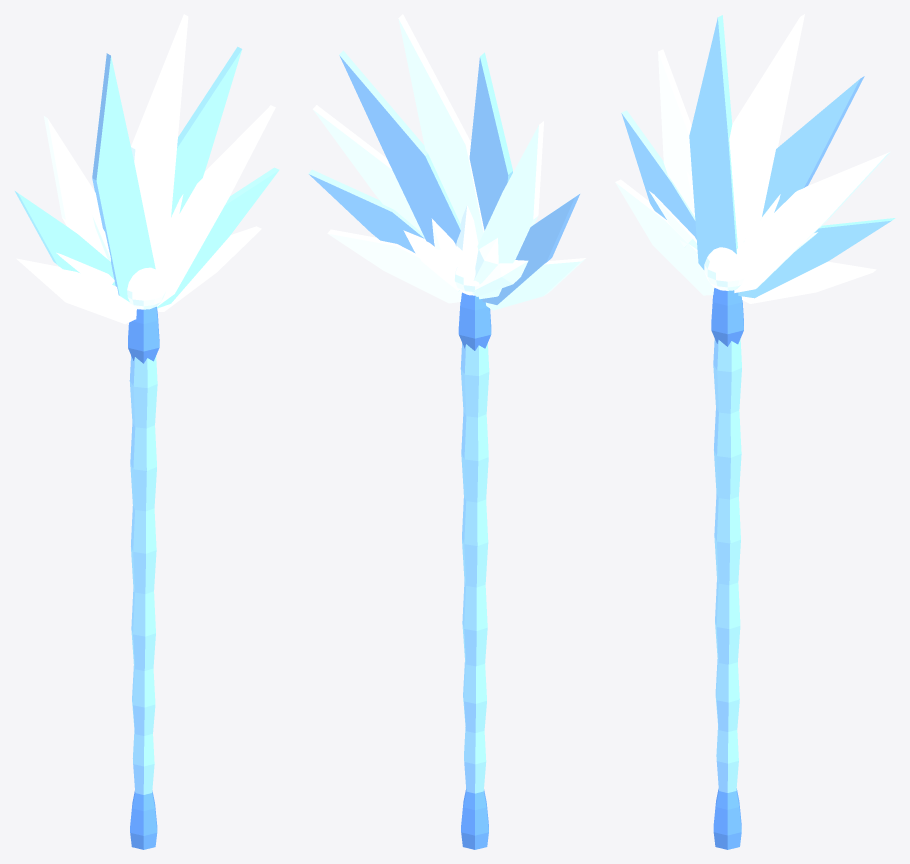
The model's file is staff_icebloom.glb.
The picture shows the model from 3 angles, left to right: view 1: azimuth 30°, elevation 25°; view 2: azimuth 150°, elevation 25°; view 3: azimuth 330°, elevation 25°; orthographic projection. The views are drawn at different scales.
Parts seen in each view (by area): view 1: Ib_Shaft, Ib_Blade3, Ib_Blade4, Ib_Blade6, Ib_Blade5, Ib_Blade2, Ib_Blade0, Ib_Blade1, Ib_Blade7, Ib_Neck, Ib_Blade8, Ib_Butt (+2 smaller); view 2: Ib_Shaft, Ib_Blade5, Ib_Blade4, Ib_Blade2, Ib_Blade3, Ib_Blade8, Ib_Blade6, Ib_Blade7, Ib_Blade1, Ib_Blade0, Ib_Neck, Ib_Butt (+6 smaller); view 3: Ib_Shaft, Ib_Blade3, Ib_Blade4, Ib_Blade6, Ib_Blade5, Ib_Blade7, Ib_Blade2, Ib_Blade0, Ib_Blade1, Ib_Blade8, Ib_Neck, Ib_Butt (+2 smaller).
Boxes of the visible parts, x1,y1,x2,y2 form: Ib_Shaft: [129, 356, 157, 794]; Ib_Blade3: [92, 53, 155, 301]; Ib_Blade4: [131, 14, 188, 261]; Ib_Blade6: [154, 105, 275, 306]; Ib_Blade5: [171, 46, 242, 217]; Ib_Blade2: [44, 116, 107, 258]; Ib_Blade0: [16, 258, 136, 324]; Ib_Blade1: [15, 191, 115, 285]; Ib_Blade7: [157, 167, 279, 308]; Ib_Neck: [128, 306, 159, 363]; Ib_Blade8: [157, 226, 261, 311]; Ib_Butt: [130, 790, 157, 849]; Ib_Shaft: [460, 343, 489, 793]; Ib_Blade5: [339, 50, 460, 246]; Ib_Blade4: [398, 14, 484, 243]; Ib_Blade2: [477, 121, 543, 299]; Ib_Blade3: [469, 52, 512, 230]; Ib_Blade8: [327, 229, 461, 303]; Ib_Blade6: [312, 105, 422, 232]; Ib_Blade7: [308, 169, 424, 253]; Ib_Blade1: [482, 194, 579, 304]; Ib_Blade0: [486, 258, 585, 310]; Ib_Neck: [458, 292, 491, 350]; Ib_Butt: [461, 789, 488, 849]; Ib_Shaft: [713, 339, 741, 792]; Ib_Blade3: [689, 15, 737, 269]; Ib_Blade4: [729, 14, 804, 247]; Ib_Blade6: [734, 151, 890, 292]; Ib_Blade5: [762, 76, 864, 216]; Ib_Blade7: [738, 218, 895, 298]; Ib_Blade2: [658, 49, 694, 216]; Ib_Blade0: [615, 179, 714, 295]; Ib_Blade1: [621, 110, 696, 239]; Ib_Blade8: [741, 261, 876, 303]; Ib_Neck: [711, 288, 743, 346]; Ib_Butt: [713, 788, 741, 849].
Bounding box in the file's own units: 0.9337 × 2.72 × 0.1874.
